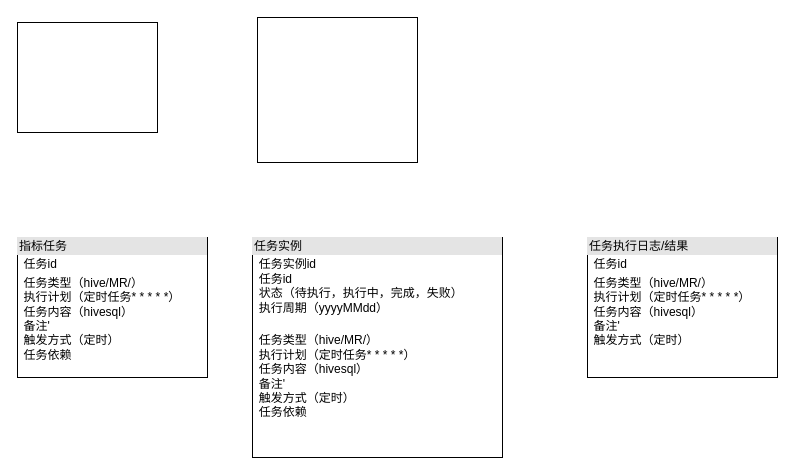
Image size: 795x475. Some labels were removed from this diagram. Each missing label, with the box of its shape:
指标定义 PK 指标id 指标名称 业务描述 统计口径 技术口径: (16, 22, 158, 132)
指标数据 指标id 统计时间（月、日） 地市 维度1.... 维度10 度量1.... 度量5 更新时间: (256, 16, 418, 162)
